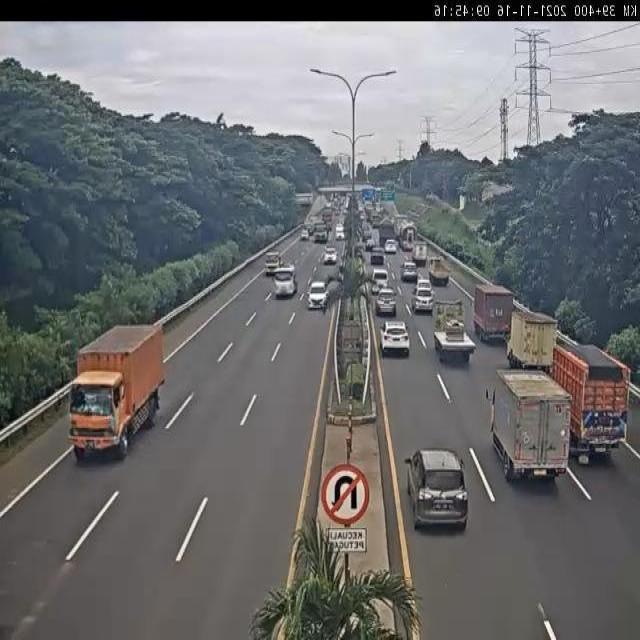Car: (404, 448, 468, 534), (378, 321, 410, 354), (308, 281, 330, 311), (376, 290, 398, 317), (412, 286, 433, 314), (400, 261, 418, 279), (322, 248, 338, 264), (384, 238, 398, 254), (336, 225, 344, 242), (300, 230, 308, 242)
Truck: (64, 317, 167, 455), (483, 368, 570, 488), (549, 338, 629, 462), (504, 308, 558, 373), (432, 301, 477, 364), (472, 281, 514, 344), (428, 255, 452, 288), (398, 218, 417, 251), (263, 252, 283, 277), (412, 240, 427, 263)
